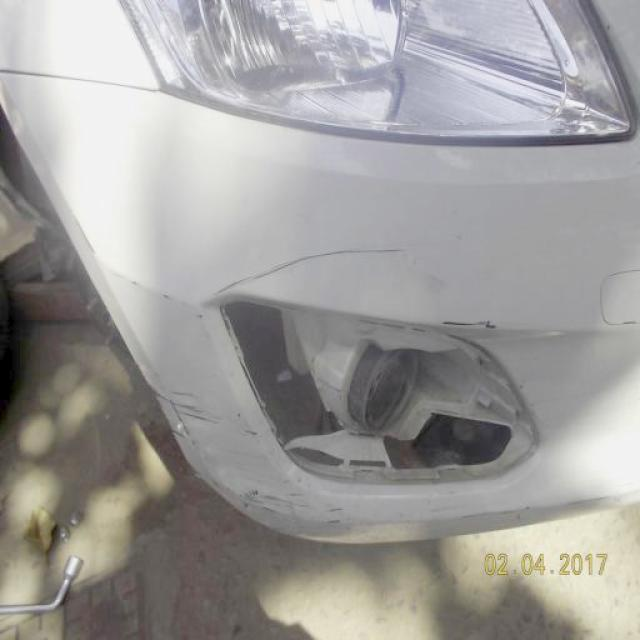car damage: (223, 297, 543, 484), (209, 244, 415, 296), (148, 386, 267, 437), (234, 483, 347, 530), (442, 312, 501, 333)
